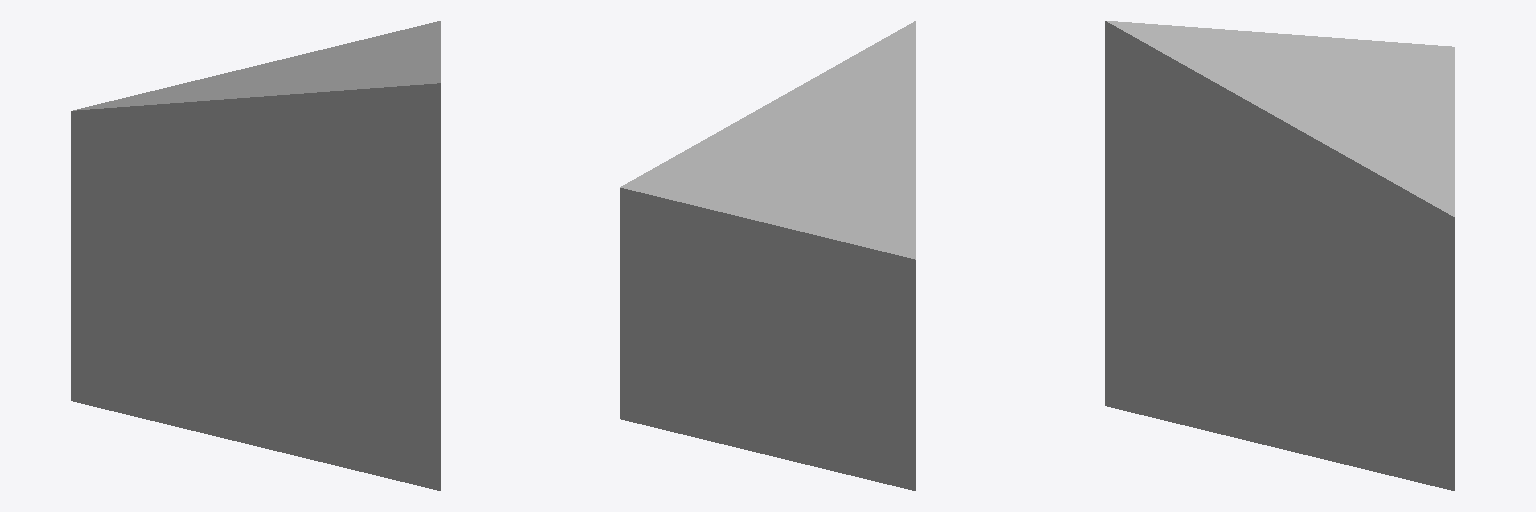
The robot description file, URDF, robot "root":
<robot name="root">
  <link name="link_Skewed Triangular Prism_convex_piece_0">
    <inertial>
      <origin xyz="0 0 0" rpy="0 0 0"/>
      <mass value="1.55E-01"/>
      <inertia ixx="1.10E-04" ixy="-1.21E-09" ixz="2.14E-10" iyy="1.07E-04" iyz="7.95E-06" izz="8.65E-05"/>
    </inertial>
    <visual>
      <origin xyz="0 0 0" rpy="0 0 0"/>
      <geometry>
        <mesh filename="Skewed Triangular Prism_convex_piece_0.obj" scale="1.0000E+00 1.0000E+00 1.0000E+00"/>
      </geometry>
      <material name="">
        <color rgba="7.50E-01 7.50E-01 7.50E-01 1"/>
      </material>
    </visual>
    <collision>
      <origin xyz="0 0 0" rpy="0 0 0"/>
      <geometry>
        <mesh filename="Skewed Triangular Prism_convex_piece_0.obj" scale="1.0000E+00 1.0000E+00 1.0000E+00"/>
      </geometry>
    </collision>
  </link>
</robot>

--- Facts derived from the render (not from the file) ---
The picture shows the robot from 3 angles, left to right: view 1: azimuth 30°, elevation 25°; view 2: azimuth 150°, elevation 25°; view 3: azimuth 270°, elevation 25°; orthographic projection.
Robot: root — 1 links, 0 joints (none); root link link_Skewed Triangular Prism_convex_piece_0; default pose: all joints at 0.
Visible links, largest first — view 1: link_Skewed Triangular Prism_convex_piece_0; view 2: link_Skewed Triangular Prism_convex_piece_0; view 3: link_Skewed Triangular Prism_convex_piece_0.
Link boxes in pixels (<box>): link_Skewed Triangular Prism_convex_piece_0: <box>71,21,440,490</box>; link_Skewed Triangular Prism_convex_piece_0: <box>620,21,915,490</box>; link_Skewed Triangular Prism_convex_piece_0: <box>1105,21,1454,490</box>.
Size in the robot's own frame: 0.0819 by 0.0709 by 0.0861 metres.
1 mesh visuals loaded from 1 distinct referenced files (1 OBJ).
